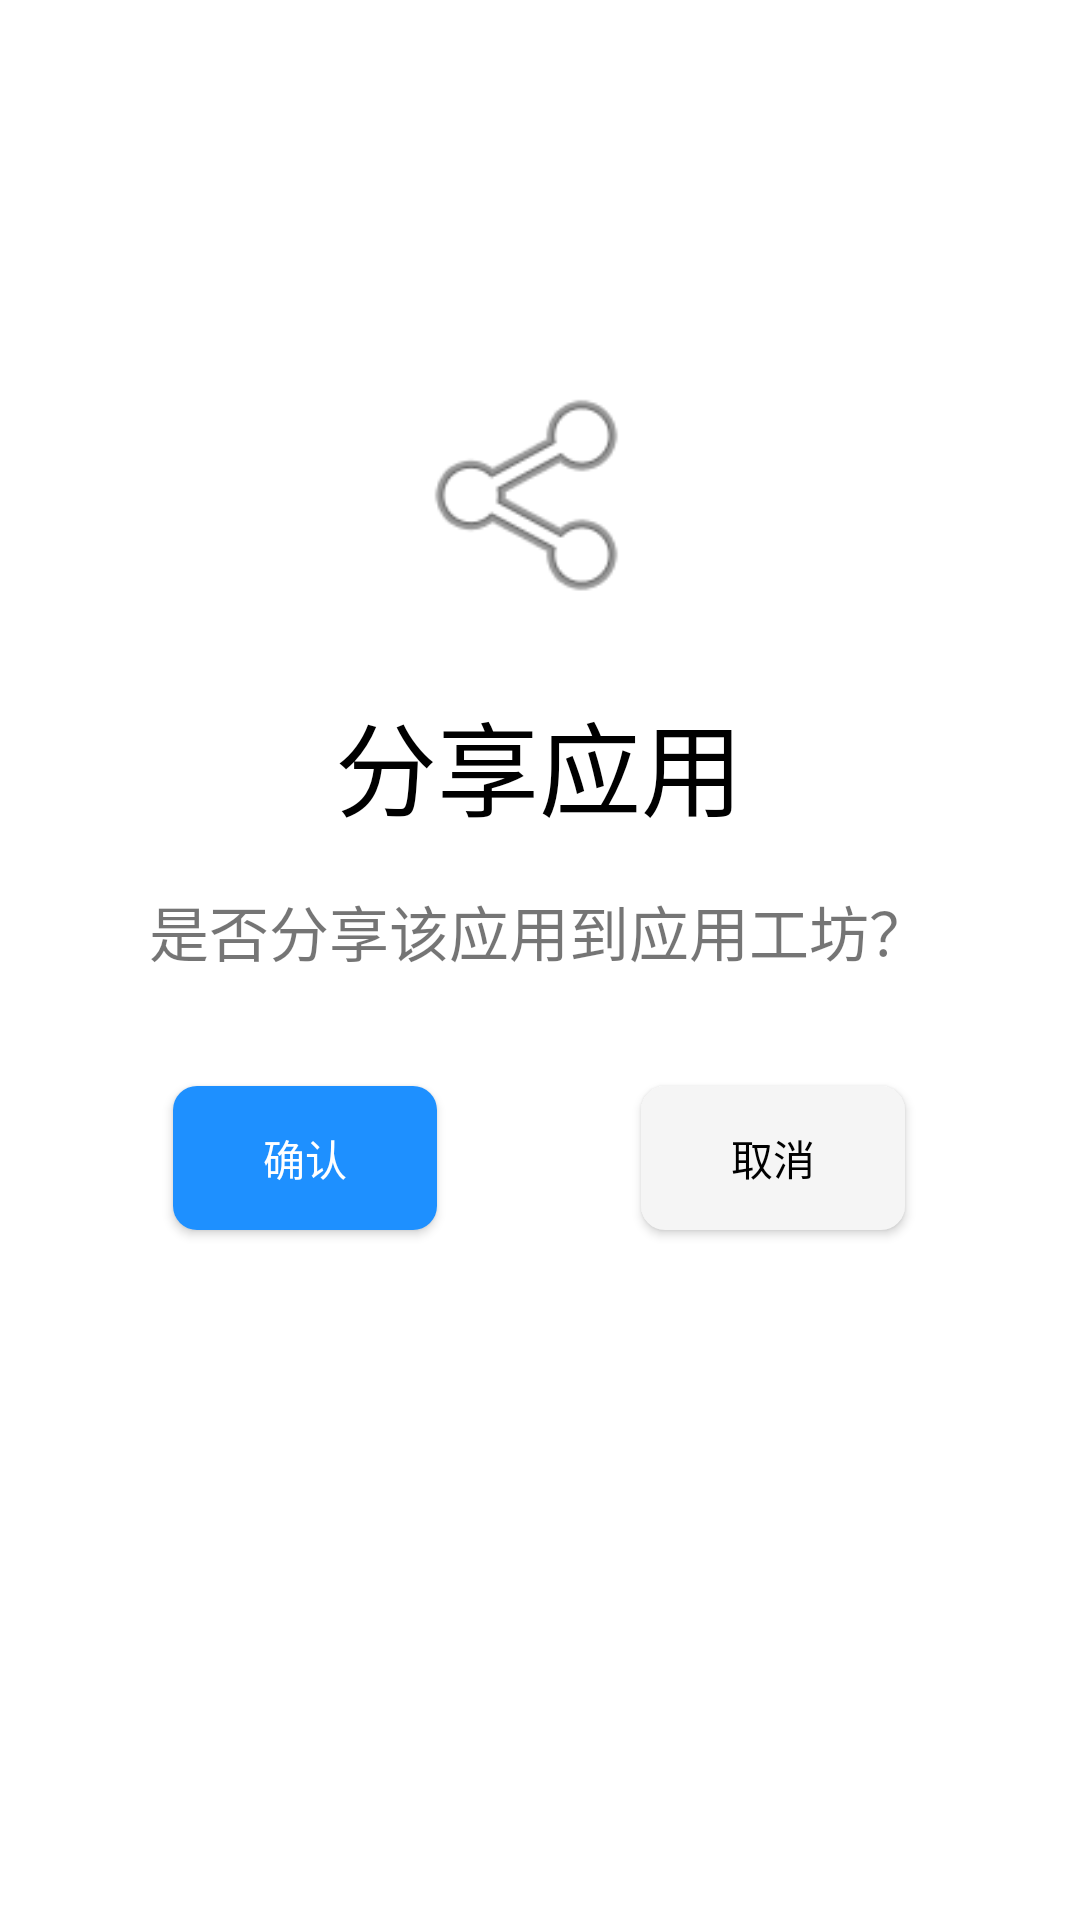

Screen size 1080*1920. Icon name, then its center in pixels as point (x, y):
share: point (526, 495)
